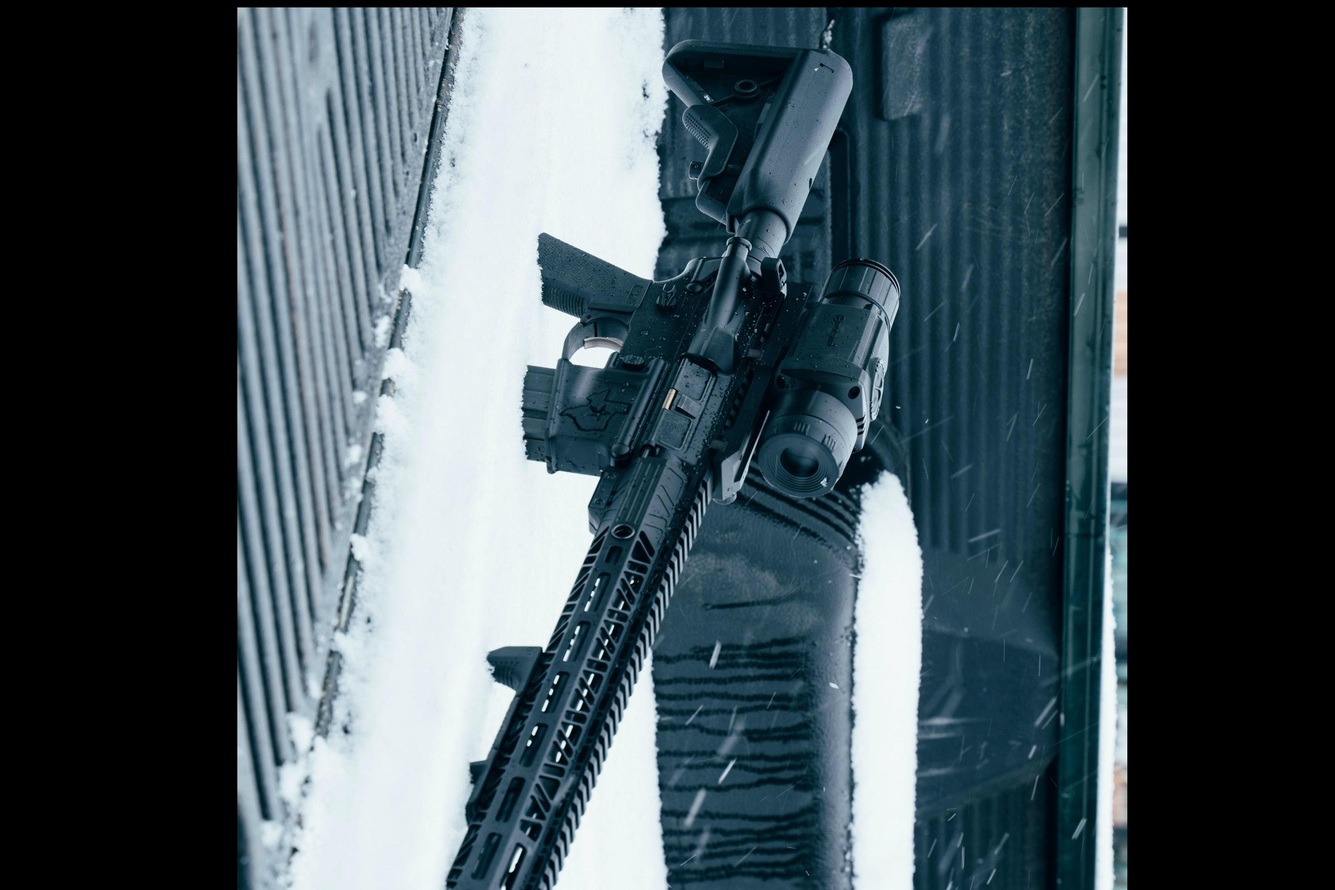larga: (438, 39, 900, 890)
